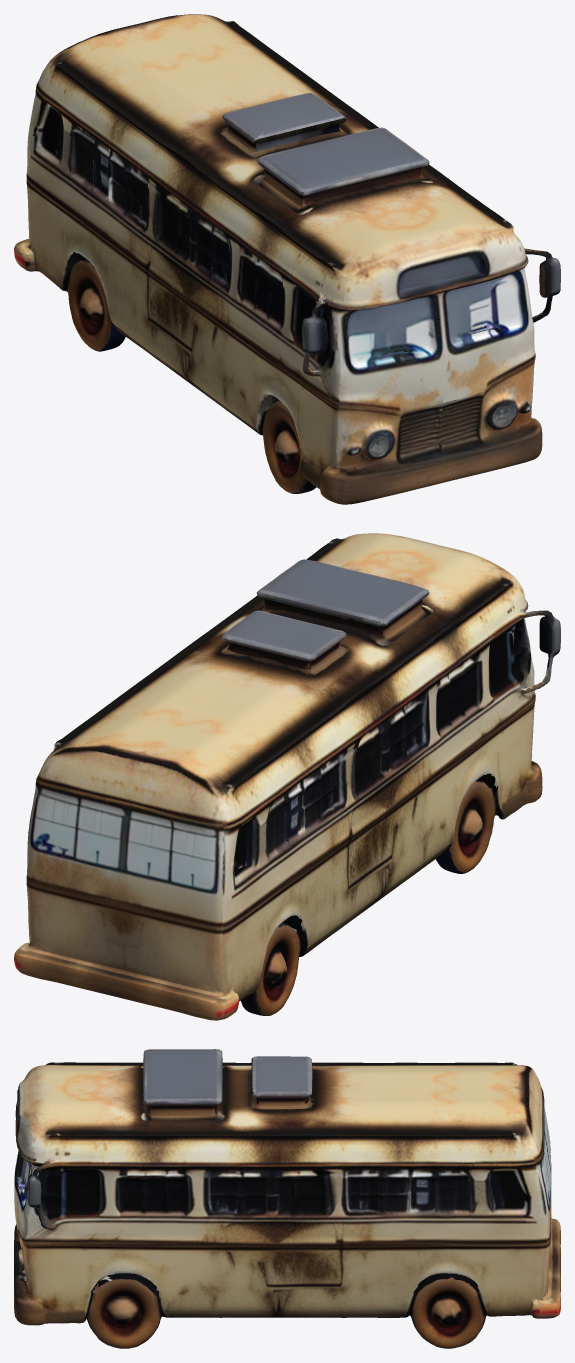
The model's file is colectivo_viejo.glb.
3 renders of one model, top to bottom at view 1: azimuth 30°, elevation 25°; view 2: azimuth 150°, elevation 25°; view 3: azimuth 270°, elevation 25°, orthographic. The views are drawn at different scales.
Visible parts, largest first — view 1: tmp5azonfg1.ply; view 2: tmp5azonfg1.ply; view 3: tmp5azonfg1.ply.
Boxes of the visible parts, x1,y1,x2,y2 form: tmp5azonfg1.ply: (14,14,560,504); tmp5azonfg1.ply: (14,533,560,1020); tmp5azonfg1.ply: (14,1049,560,1348).
Size of the model in its own units: 0.4443 by 0.4766 by 0.989.
1 material, 1 textured.
